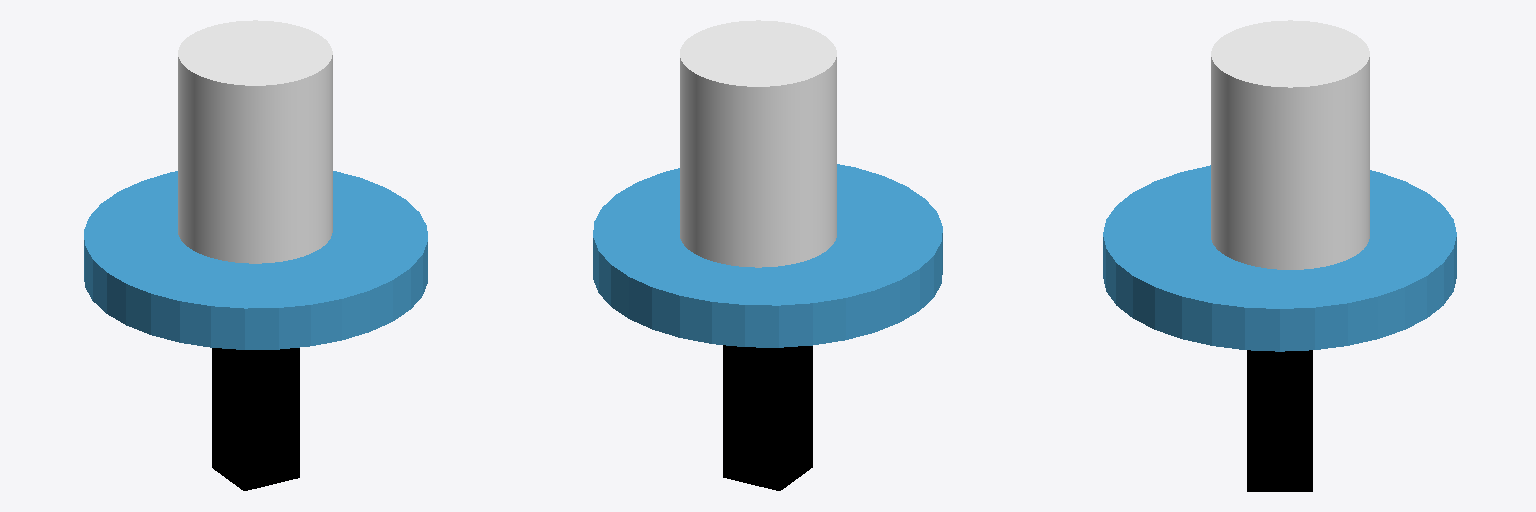
The robot description file, URDF, robot "rot_base":
<?xml version="1.0" ?>
<robot name="rot_base">
  <material name="object_color">
	<color rgba="1 1 1 1"/>
  </material>
  
  <material name="black">
	<color rgba="0 0 0 1"/>
  </material>
  
  <link name="rot_base/base">
	<visual>
		<origin xyz="0 0 0"/>
		<geometry>
			<box size="0.0381 0.0381 0.127"/>
		</geometry>
		<material name="black"/>
	</visual>
	
	<collision>
		<origin xyz="0 0 0"/>
		<geometry>
			<box size="0.0381 0.0381 0.127"/>
		</geometry>
	</collision>
	
	<inertial>
      <origin rpy="0 0 0" xyz="0 0 0"/>
      <mass value="0"/>
      <inertia ixx="0" ixy="0" ixz="0" iyy="0" iyz="0" izz="0"/>
    </inertial>
  </link>
  
  <joint name="base_mount_joint" type="revolute">
    <parent link="rot_base/base"/>
    <child link="rot_base/plate"/>
    <axis xyz="0 0 1"/>
    <limit effort="0" lower="-3.14159265359" upper="3.14159265359" velocity="10"/>
    <origin xyz="0 0 0.07699375"/>
  </joint>
  
  <link name="rot_base/plate">
	<visual>
		<origin xyz="0 0 0"/>
		<geometry>
			<cylinder length="0.0269875" radius="0.1016"/>
		</geometry>
		<material name="white"/>
	</visual>
	
	<collision>
		<origin xyz="0 0 0"/>
		<geometry>
			<cylinder length="0.0269875" radius="0.1016"/>
		</geometry>
	</collision>
	
	<inertial>
      <origin rpy="0 0 1.5707963267948966" xyz="-0.0354389000 -0.0033586100 0.0253408000"/>
      <mass value="1"/>
      <inertia ixx="0.0033530000" ixy="-0.0001246000" ixz="0.0000110600" iyy="0.0013570000" iyz="0.0002103000" izz="0.0041110000"/>
    </inertial>
  </link>
  
  <joint name="object_plate_joint" type="fixed">
    <parent link="rot_base/plate"/>
    <child link="rot_base/object"/>
    <origin xyz="0.003 0.006 0.01349375"/>
  </joint>
  
  <link name="rot_base/object">
    <visual>
      <origin rpy="0 0 1.5707963267948966" xyz="0 0 0"/>
      <geometry>
        <mesh filename="package://data/sim/meshes/object_exp.stl" scale="0.001 0.001 0.001"/>
      </geometry>
      <material name="object_color"/>
    </visual>
	
    <collision>
      <origin rpy="0 0 1.5707963267948966" xyz="0 0 0"/>
      <geometry>
        <mesh filename="package://data/sim/meshes/object_exp.stl" scale="0.001 0.001 0.001"/>
      </geometry>
    </collision>
	
    <inertial>
      <origin rpy="0 0 0" xyz="0 0 0"/>
      <mass value="0.05"/>
      <inertia ixx="0.0" ixy="0.0" ixz="0.0" iyy="0.0" iyz="0.0" izz="0.0"/>
    </inertial>
  </link>
  
</robot>

--- Render facts (derived) ---
The picture shows the robot from 3 angles, left to right: view 1: azimuth 30°, elevation 25°; view 2: azimuth 150°, elevation 25°; view 3: azimuth 270°, elevation 25°; orthographic projection.
Robot: rot_base — 3 links, 2 joints (1 revolute, 1 fixed); root link rot_base/base; default pose: every joint at zero.
Links seen in each view (by area): view 1: rot_base/plate, rot_base/object, rot_base/base; view 2: rot_base/plate, rot_base/object, rot_base/base; view 3: rot_base/plate, rot_base/object, rot_base/base.
Link boxes in pixels (x1,y1,x2,y2): rot_base/plate: (84, 171, 427, 349); rot_base/object: (178, 20, 332, 263); rot_base/base: (212, 348, 299, 490); rot_base/plate: (593, 164, 942, 347); rot_base/object: (680, 20, 836, 267); rot_base/base: (723, 345, 812, 490); rot_base/plate: (1103, 165, 1456, 351); rot_base/object: (1211, 20, 1369, 269); rot_base/base: (1247, 350, 1312, 491).
Size in the robot's own frame: 0.2032 by 0.2032 by 0.2695 metres.
Meshes: 1 distinct files referenced, 1 mesh visuals loaded (1 binary STL).